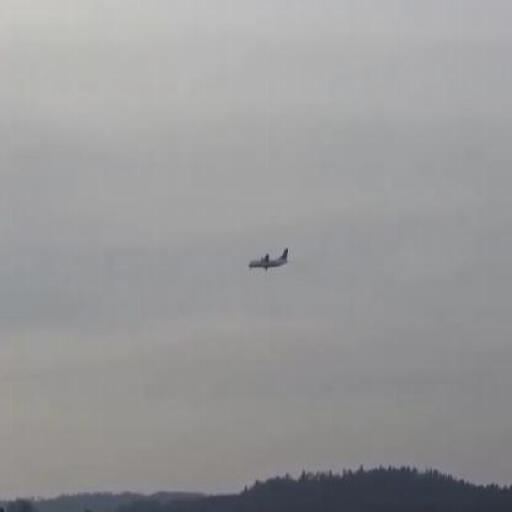aircraft: (248, 248, 290, 270)
